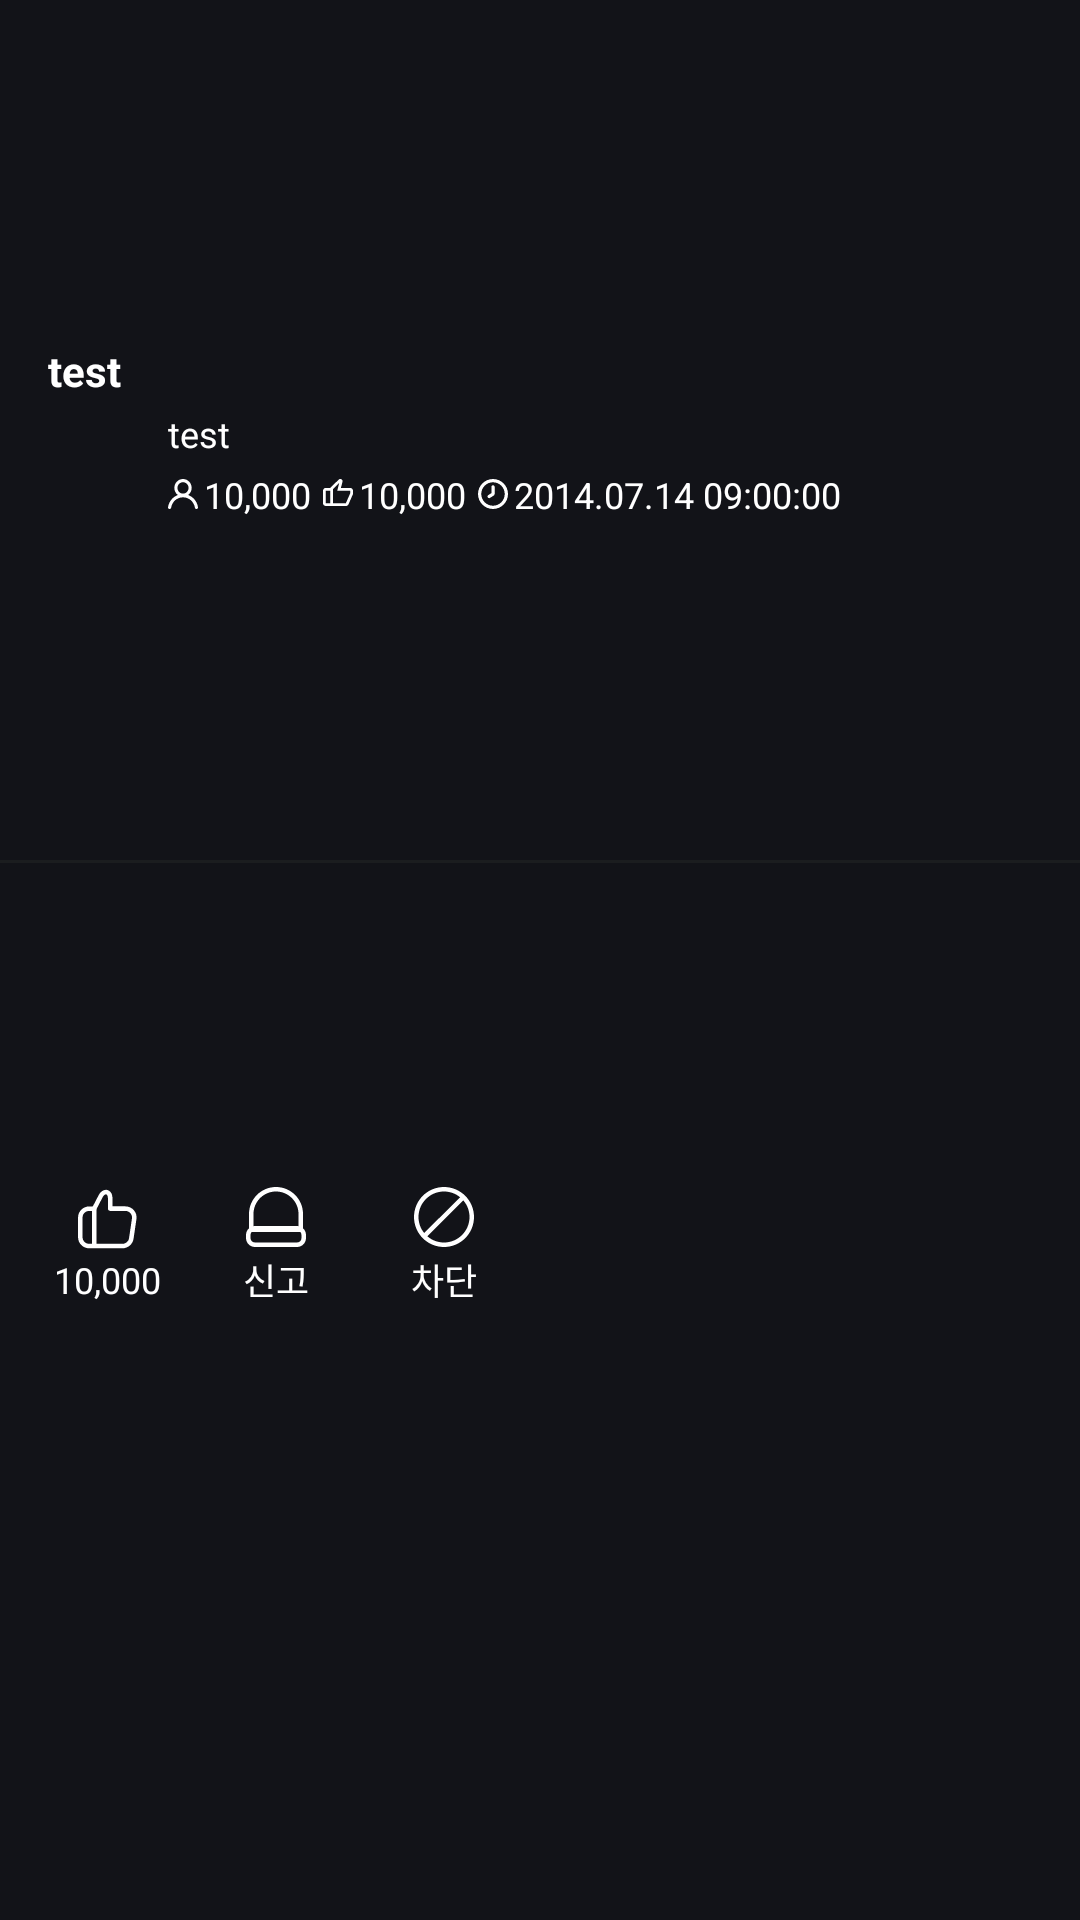

Screen size 1080px×1920px. Icon name, then its box in pixels as detection(x1, y1, x2, y2):
thumbs up: detection(78, 1189, 137, 1249)
